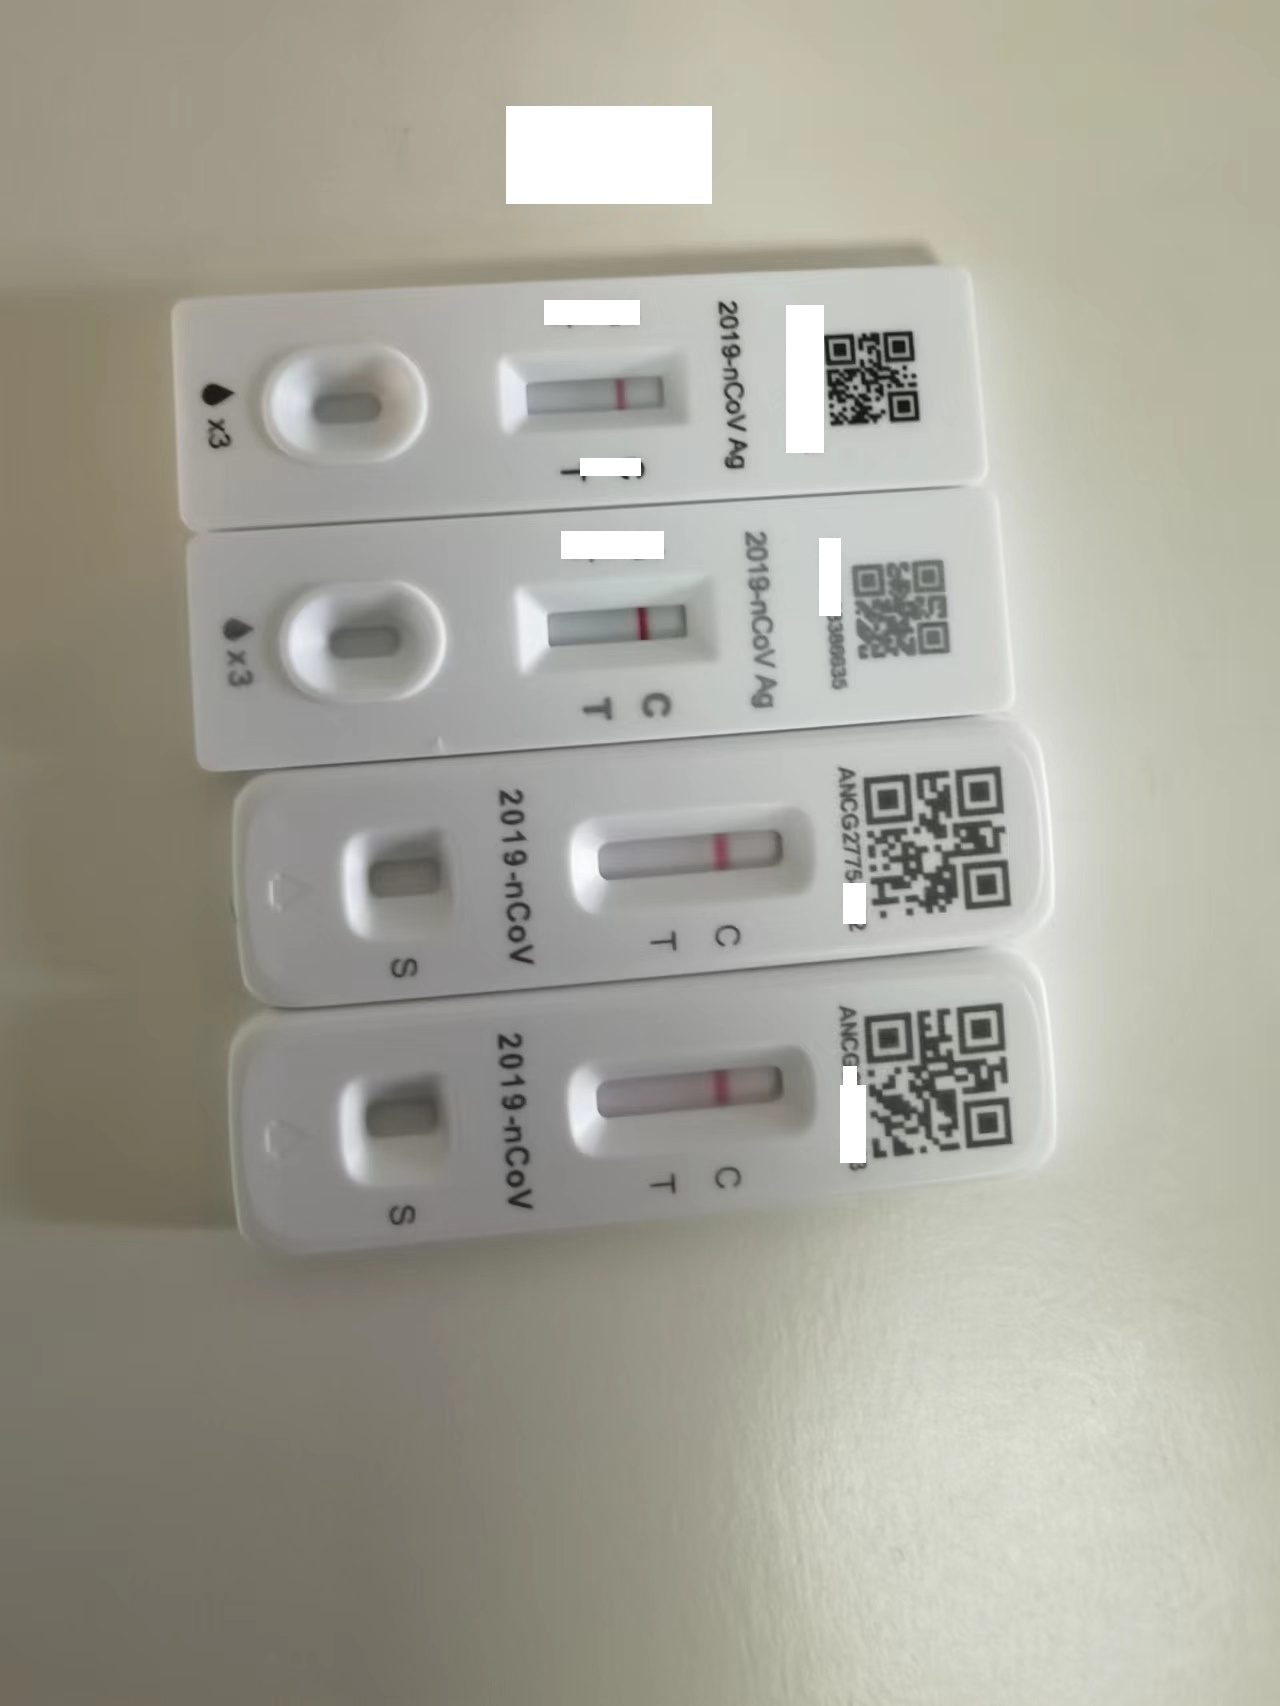negative: (569, 1047, 827, 1144), (571, 809, 820, 909), (524, 575, 721, 668), (502, 352, 684, 429)
